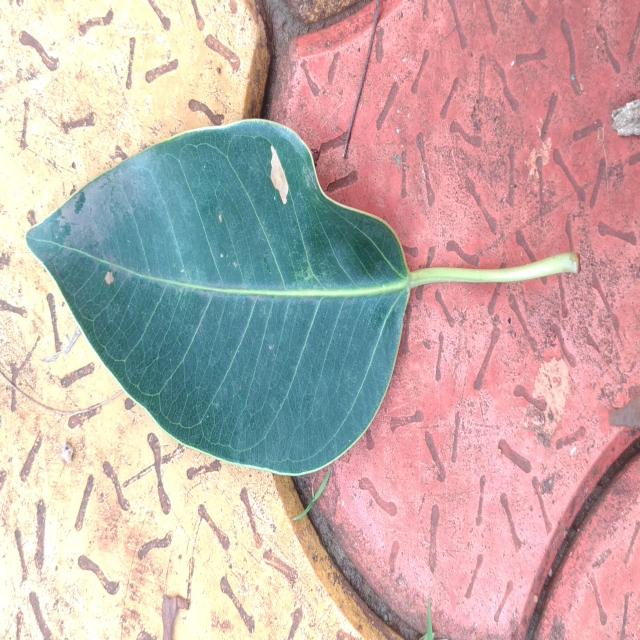camphor: (28, 120, 410, 476)
defected camphor: (270, 144, 289, 204)
